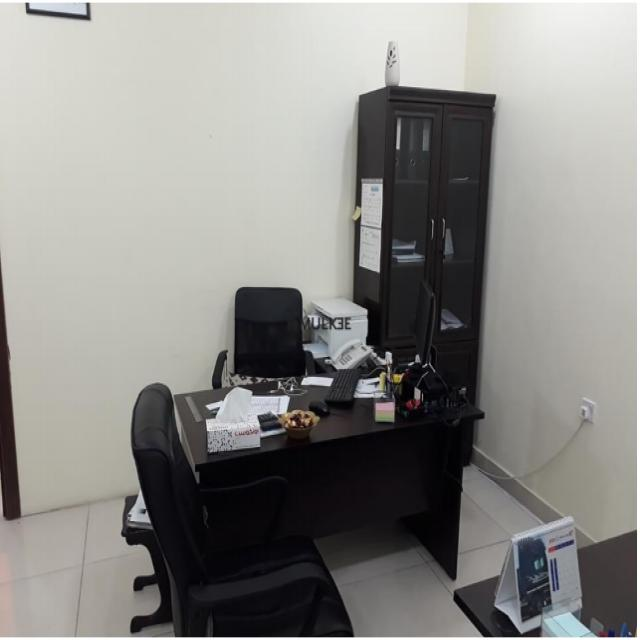chair: (103, 394, 332, 608), (224, 283, 316, 405)
computer: (368, 286, 506, 392)
desk: (132, 360, 479, 524)
wardrobe: (371, 86, 509, 469)
